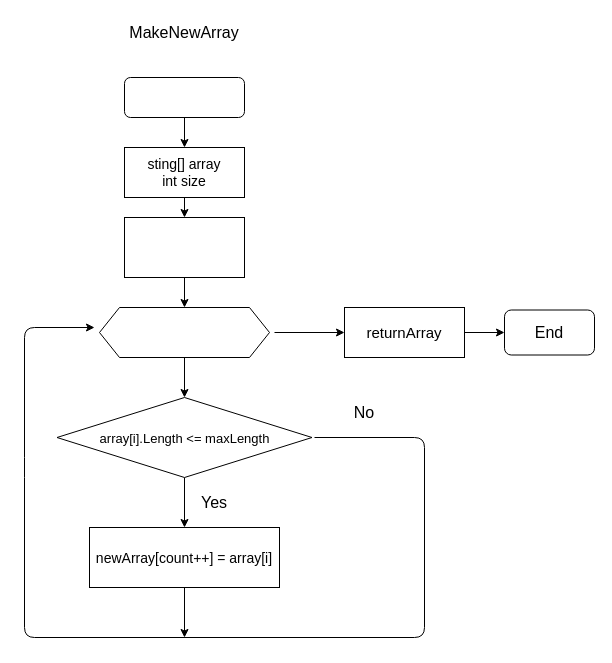
Some shapes in this 612 by 663 pixel diagram are drawn without their labels. Here are the shapes that lost their labels. From the top down, the box of each, then its label:
(124, 76, 244, 118): Start
(124, 216, 244, 278): int count=3 int maxLength
(98, 306, 270, 358): i=0; array.Lenght-1, 1
